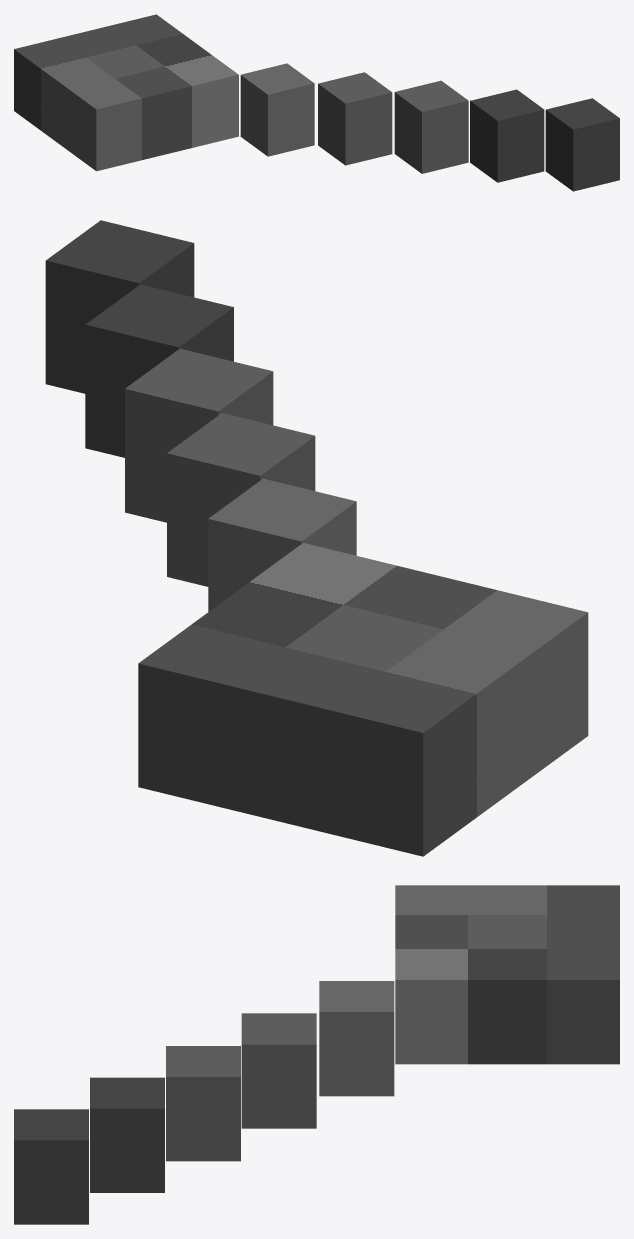
Rendered from kitchen_item_863x07.gltf.
3 renders of one model, top to bottom at view 1: azimuth 30°, elevation 25°; view 2: azimuth 150°, elevation 25°; view 3: azimuth 270°, elevation 25°, orthographic. The views are drawn at different scales.
Visible parts, largest first — view 1: kitchen_item_863x07; view 2: kitchen_item_863x07; view 3: kitchen_item_863x07.
Boxes of the visible parts, x1=… form: kitchen_item_863x07: x1=14, y1=14, x2=619, y2=191; kitchen_item_863x07: x1=45, y1=220, x2=588, y2=856; kitchen_item_863x07: x1=14, y1=885, x2=619, y2=1224.
Bounding box in the file's own units: 0.6452 × 0.0994 × 0.6478.
1 material, 1 textured.
